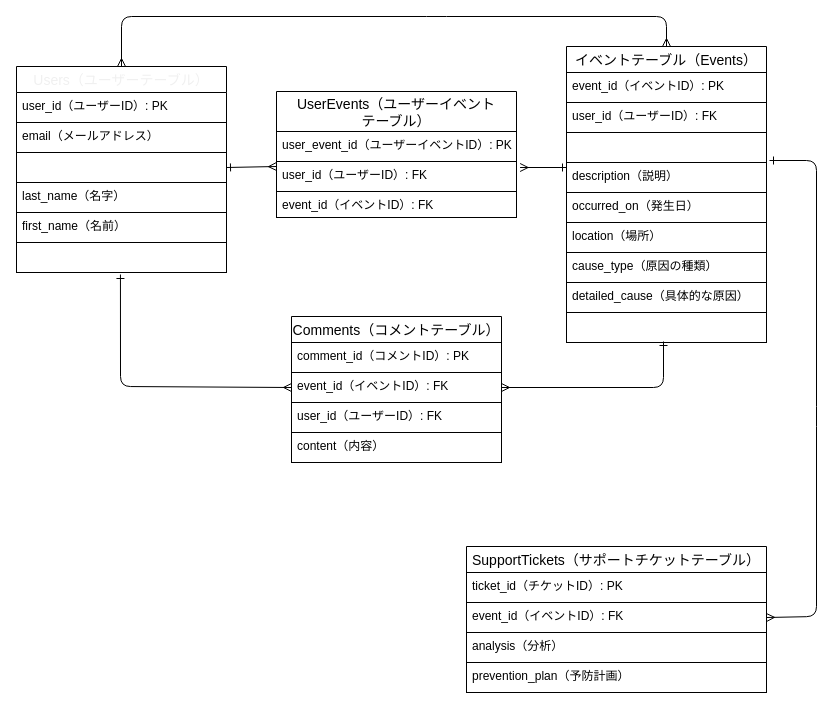
The diagram is 833 pixels wide and 709 high, and some of its shapes have lost their labels. The shapes that lost their labels are listed below. From the top down, each one's centre as x and y in pixels, then its label:
At point (121, 167): "encrypted_password（パスワード）".
At point (666, 147): "title（タイトル）".
At point (121, 257): "affiliation（所属）".
At point (666, 327): "resolution（解決策）".
